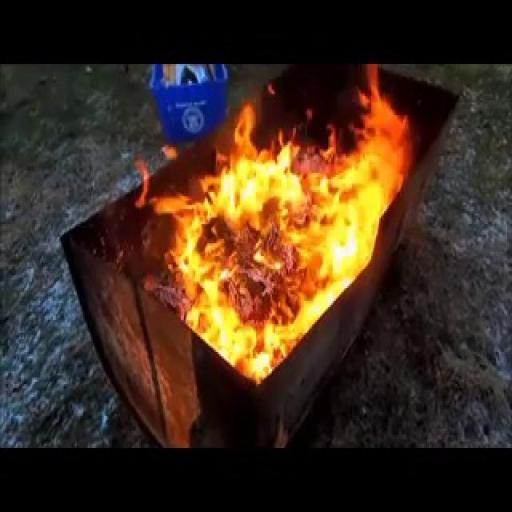smoke: (150, 66, 416, 388)
